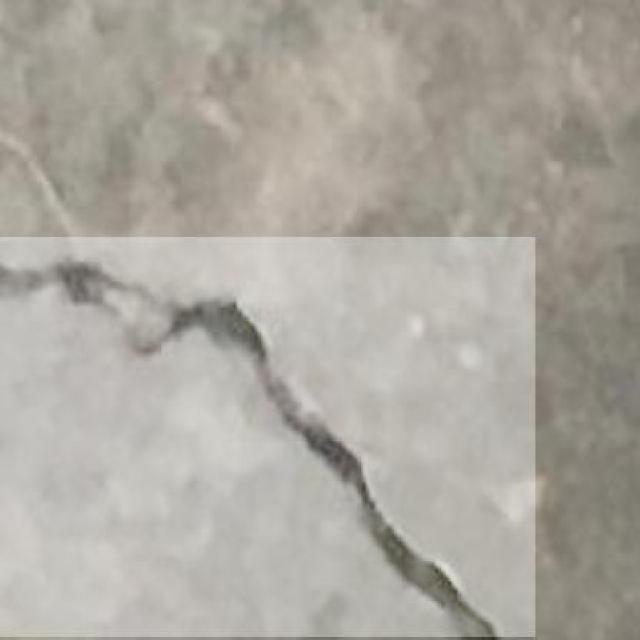Crack: (0, 240, 492, 640)
